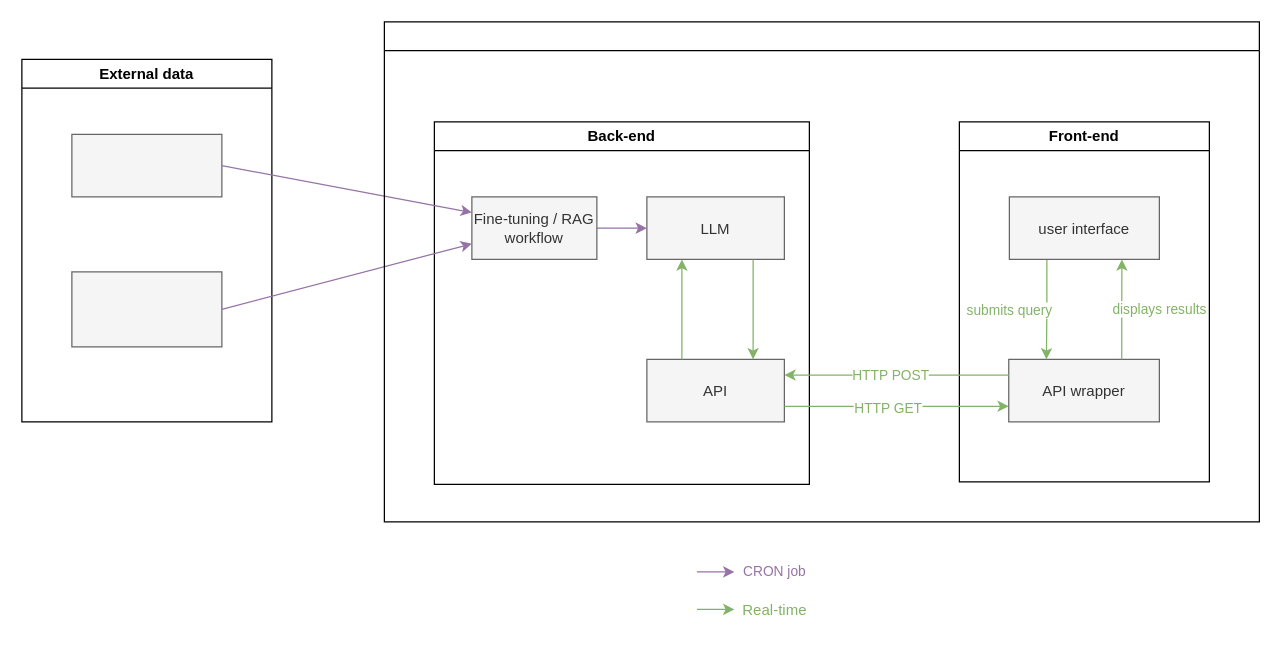
Image size: 1281x651. Some labels were removed from this diagram. Each missing label, with the centre of its shape:
Epiverse search project: the point at 821,271
List of tools: the point at 146,165
Tool documentation: the point at 146,309
